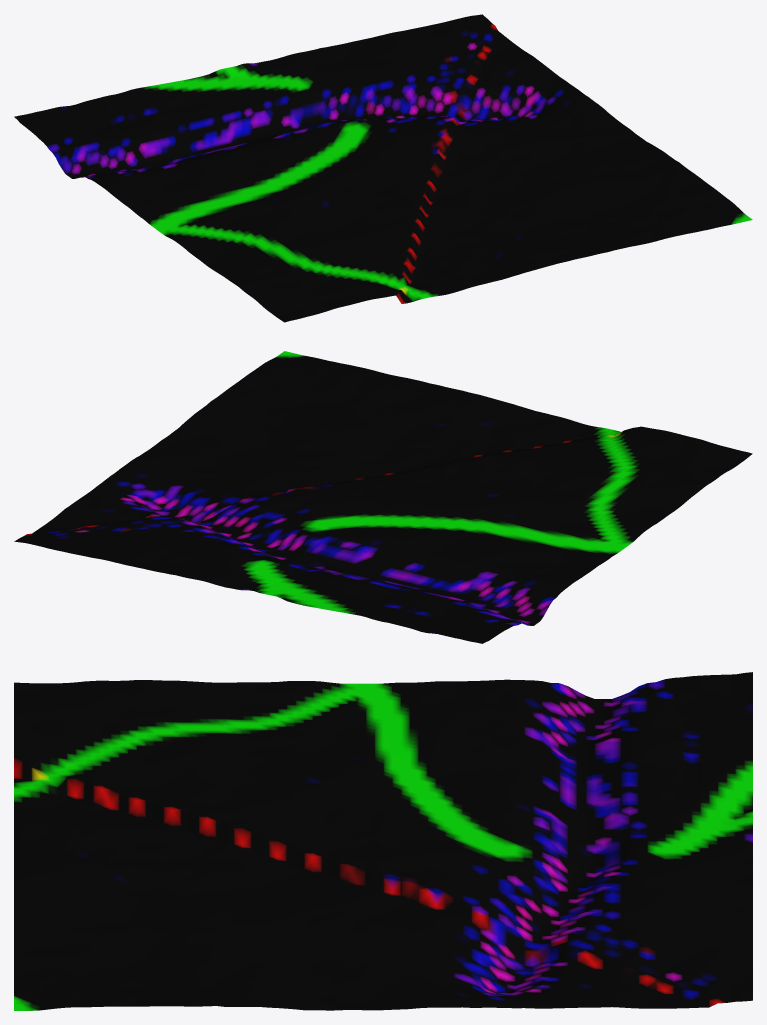
Rendered from SM_AsirMountains_Terrain_1_1.fbx.
The picture shows the model from 3 angles, top to bottom: view 1: azimuth 30°, elevation 25°; view 2: azimuth 150°, elevation 25°; view 3: azimuth 270°, elevation 25°; orthographic projection. The views are drawn at different scales.
Parts seen in each view (by area): view 1: SM_AsirMountains_Terrain_1_1; view 2: SM_AsirMountains_Terrain_1_1; view 3: SM_AsirMountains_Terrain_1_1.
Part boxes in pixels (x1,y1,x2,y2): SM_AsirMountains_Terrain_1_1: (14, 14, 752, 322); SM_AsirMountains_Terrain_1_1: (14, 351, 752, 643); SM_AsirMountains_Terrain_1_1: (14, 672, 752, 1010).
Bounding box in the file's own units: 50400 × 3457 × 50400.
